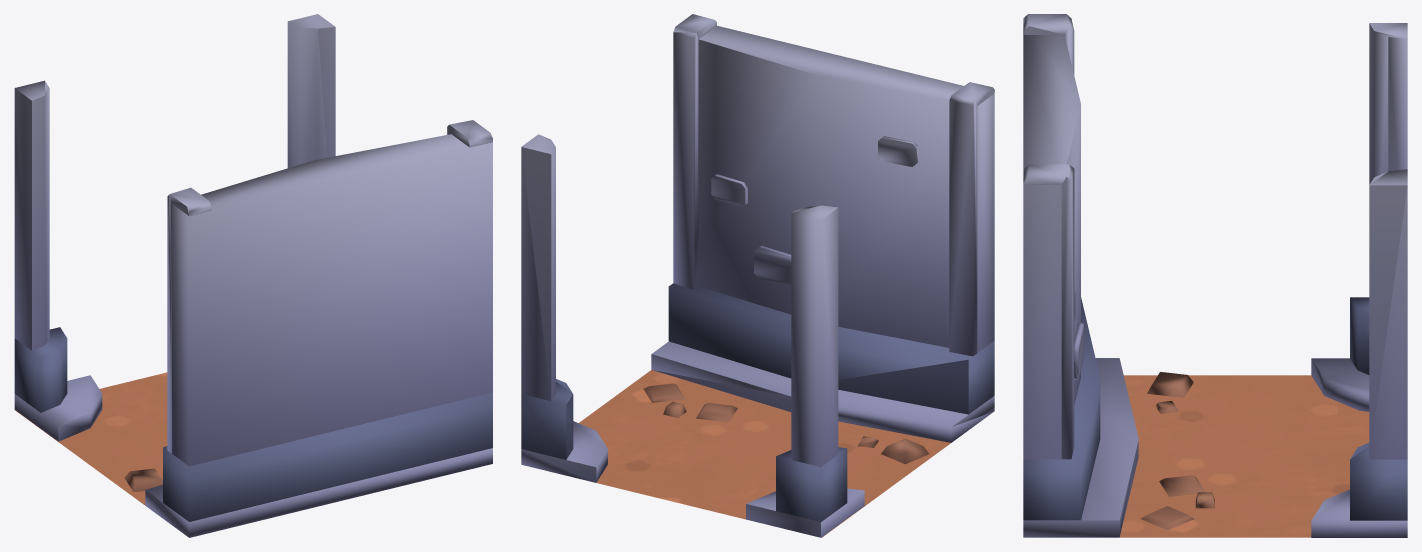
The model's file is corridor-junction.fbx.
3 views of the same model, side by side, from view 1: azimuth 30°, elevation 25°; view 2: azimuth 150°, elevation 25°; view 3: azimuth 270°, elevation 25° (orthographic). The views are drawn at different scales.
Visible parts, largest first — view 1: corridor-junction; view 2: corridor-junction; view 3: corridor-junction.
Part boxes in pixels (x1,y1,x2,y2): corridor-junction: [14, 14, 492, 537]; corridor-junction: [521, 14, 994, 537]; corridor-junction: [1023, 14, 1407, 537].
Size of the model in its own units: 401 by 415 by 400.
